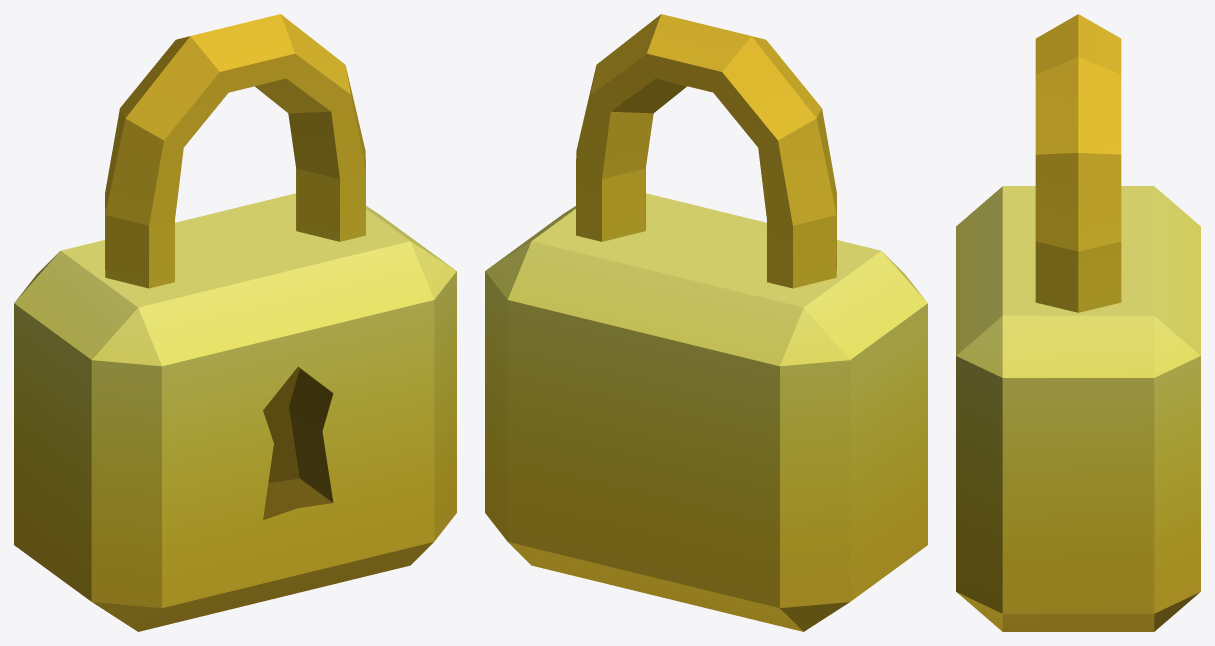
Rendered from lock.fbx.
The picture shows the model from 3 angles, left to right: view 1: azimuth 30°, elevation 25°; view 2: azimuth 150°, elevation 25°; view 3: azimuth 270°, elevation 25°; orthographic projection. The views are drawn at different scales.
Parts seen in each view (by area): view 1: lock, lockhandle; view 2: lock, lockhandle; view 3: lock, lockhandle.
Part boxes in pixels (x1,y1,x2,y2): lock: (14, 193, 456, 631); lockhandle: (105, 14, 365, 288); lock: (485, 193, 927, 631); lockhandle: (576, 14, 836, 288); lock: (956, 186, 1200, 631); lockhandle: (1035, 14, 1121, 312).
Size of the model in its own units: 0.5099 by 0.7278 by 0.3036.
